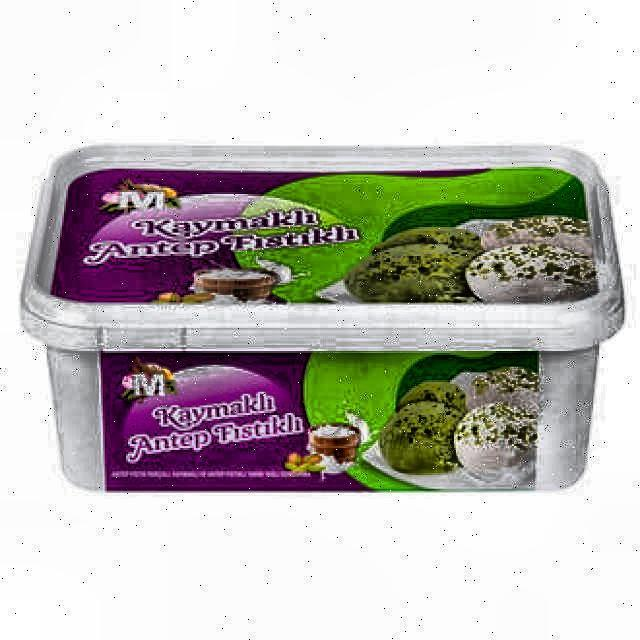plastic: (19, 134, 627, 497)
